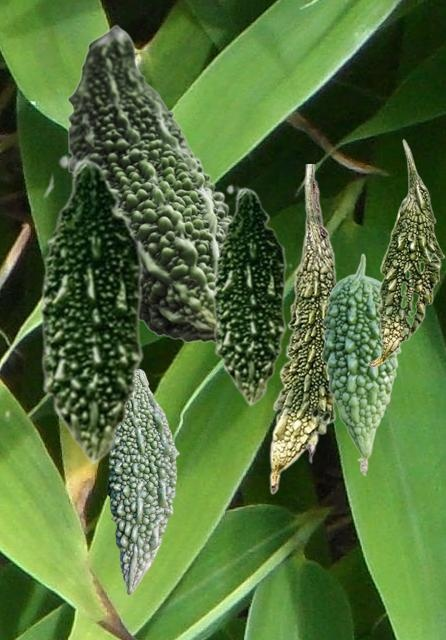ampalaya: (67, 24, 231, 342), (39, 154, 150, 465), (269, 164, 337, 494), (320, 253, 400, 475), (367, 138, 444, 366), (212, 184, 291, 406), (106, 368, 178, 594)
